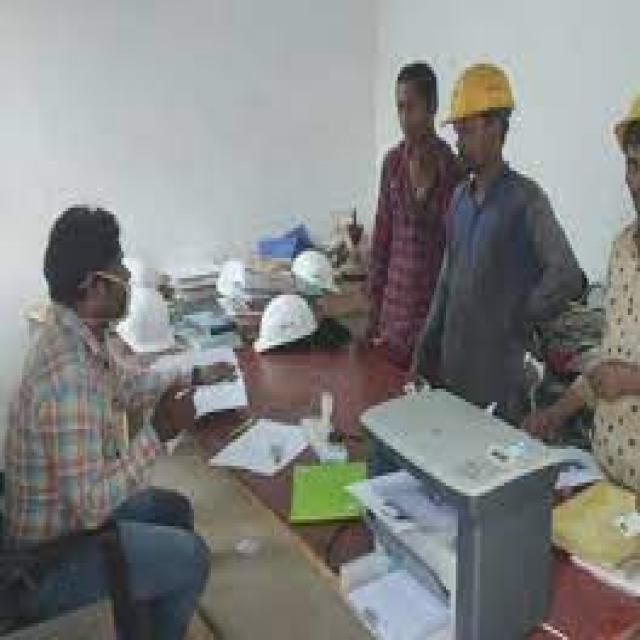Safety-Helmet: (436, 47, 526, 137), (124, 280, 191, 358), (250, 289, 317, 358), (284, 241, 339, 302)
